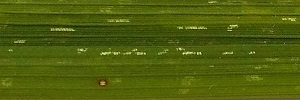RiceBlast: (93, 75, 114, 90)
